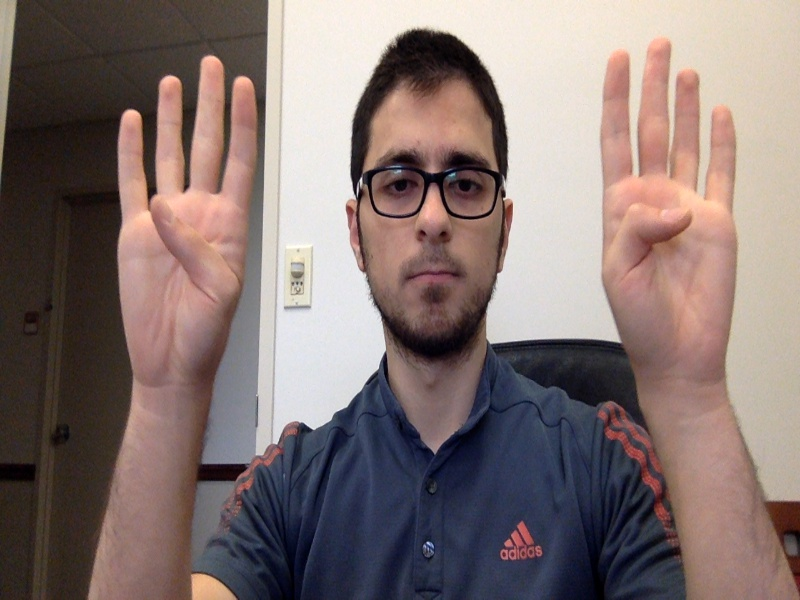4-hand: (601, 38, 737, 375), (116, 56, 256, 375)
